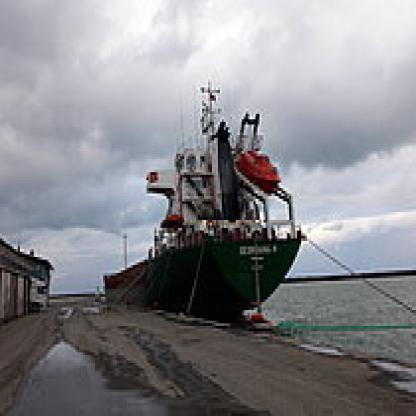Tanker: (97, 74, 315, 331)
